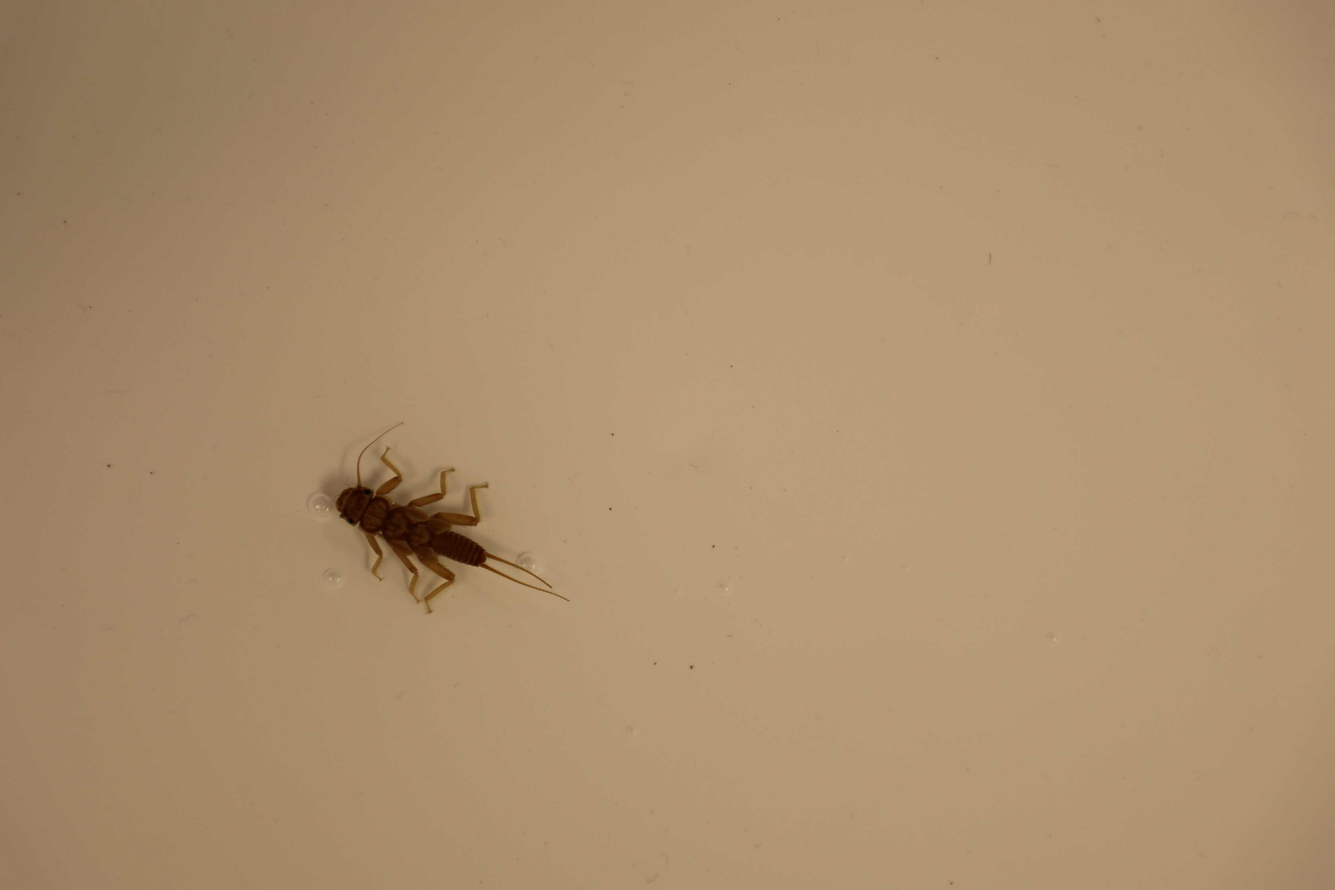Stonefly: (304, 419, 568, 616)
